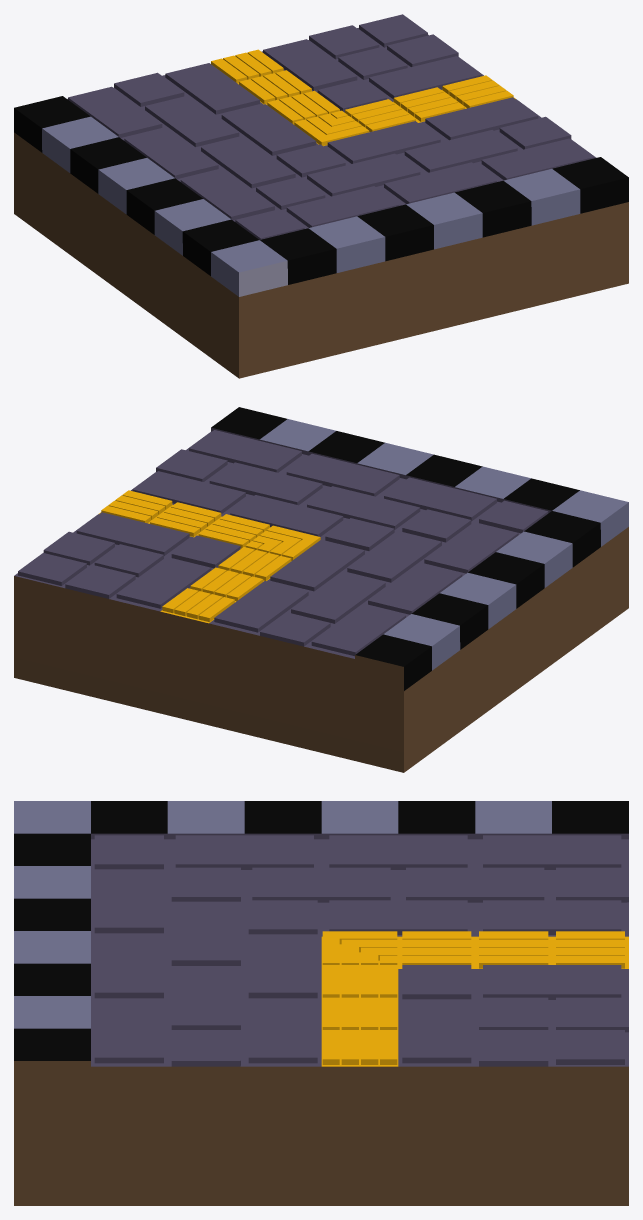
Rendered from trotoar_right_corner.fbx.
3 views of the same model, one above another, from view 1: azimuth 30°, elevation 25°; view 2: azimuth 150°, elevation 25°; view 3: azimuth 270°, elevation 25° (orthographic). The views are drawn at different scales.
Parts seen in each view (by area): view 1: Cube.084; view 2: Cube.084; view 3: Cube.084.
Boxes of the visible parts, x1=… form: Cube.084: x1=14, y1=14, x2=628, y2=378; Cube.084: x1=14, y1=407, x2=628, y2=772; Cube.084: x1=14, y1=801, x2=628, y2=1205.
Size of the model in its own units: 1000 by 260 by 1000.
Materials: 1 (1 with a texture image).
